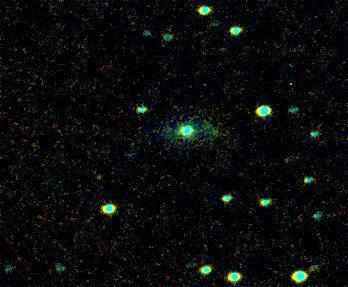star: (85, 162, 115, 192)
